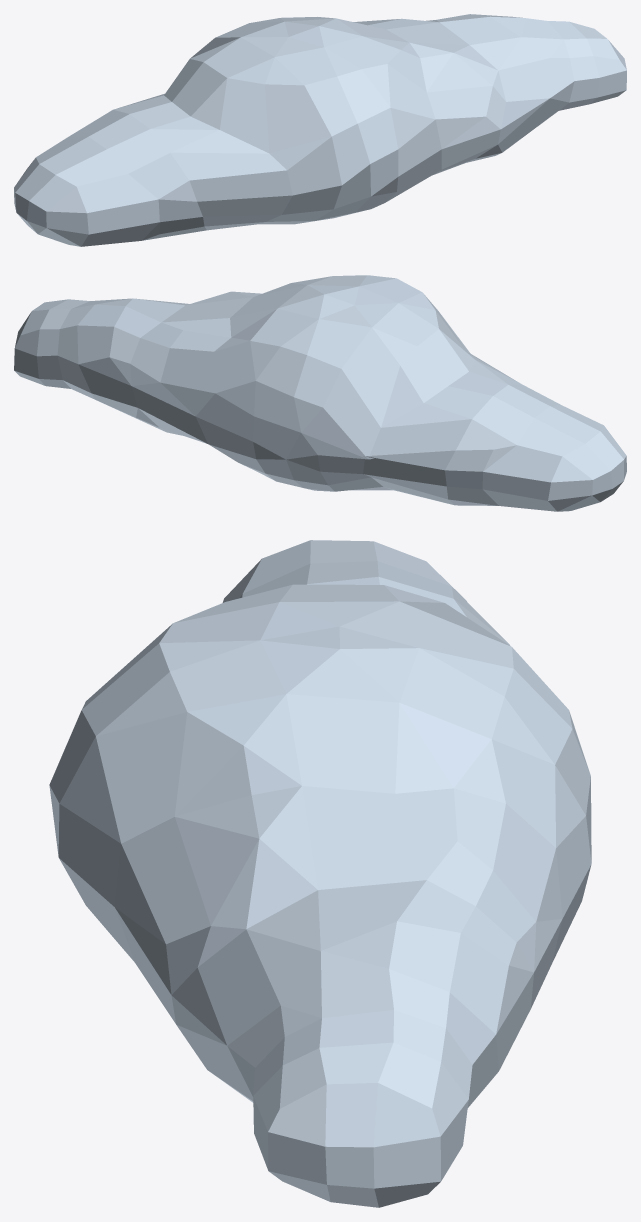
Rendered from cloud2.fbx.
The picture shows the model from 3 angles, top to bottom: view 1: azimuth 30°, elevation 25°; view 2: azimuth 150°, elevation 25°; view 3: azimuth 270°, elevation 25°; orthographic projection. The views are drawn at different scales.
Visible parts, largest first — view 1: cloud2_LOD0; view 2: cloud2_LOD0; view 3: cloud2_LOD0.
Part boxes in pixels (x1=…): cloud2_LOD0: x1=14, y1=14, x2=626, y2=246; cloud2_LOD0: x1=14, y1=275, x2=626, y2=511; cloud2_LOD0: x1=49, y1=540, x2=591, y2=1207.
Size of what is drawn, in the model's own units: 8.48 by 2.32 by 3.35.
